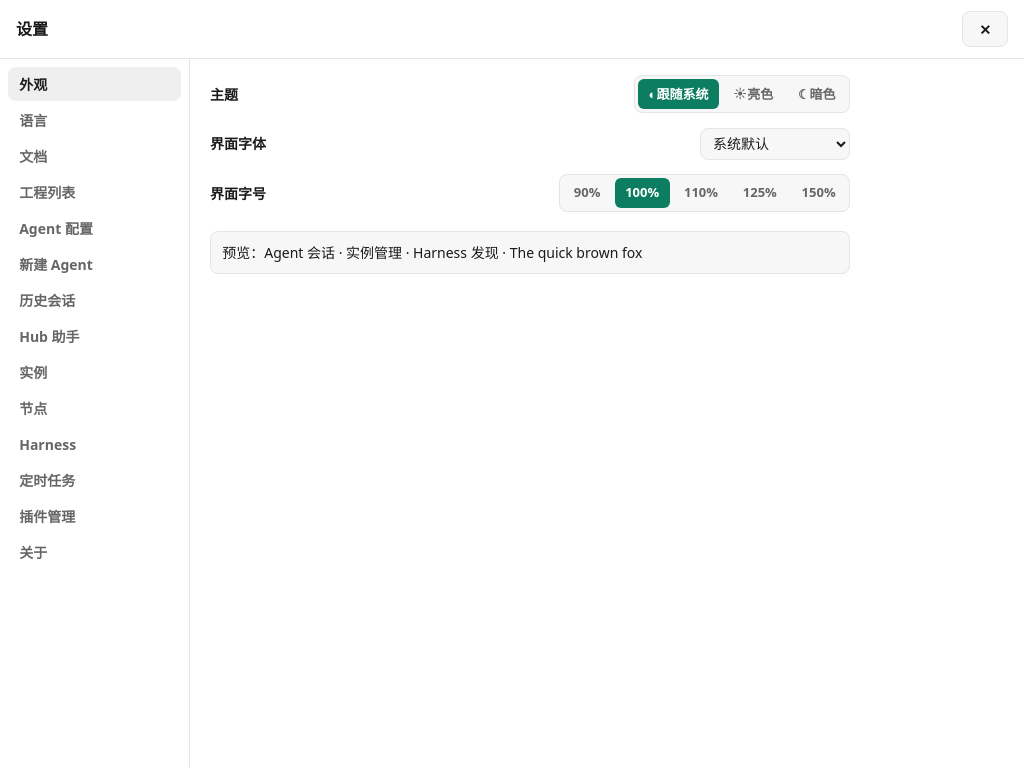
Scenario: SettingsPage 外壳（B1） › 语言切换即时生效并持久化（C1）：切 English 后语言分区文案变英文，localStorage 落盘
What coordinates should you click on to do the following:
click the button "语言"
I would click on:
 (94, 120)
Its box is [8,103,181,137].
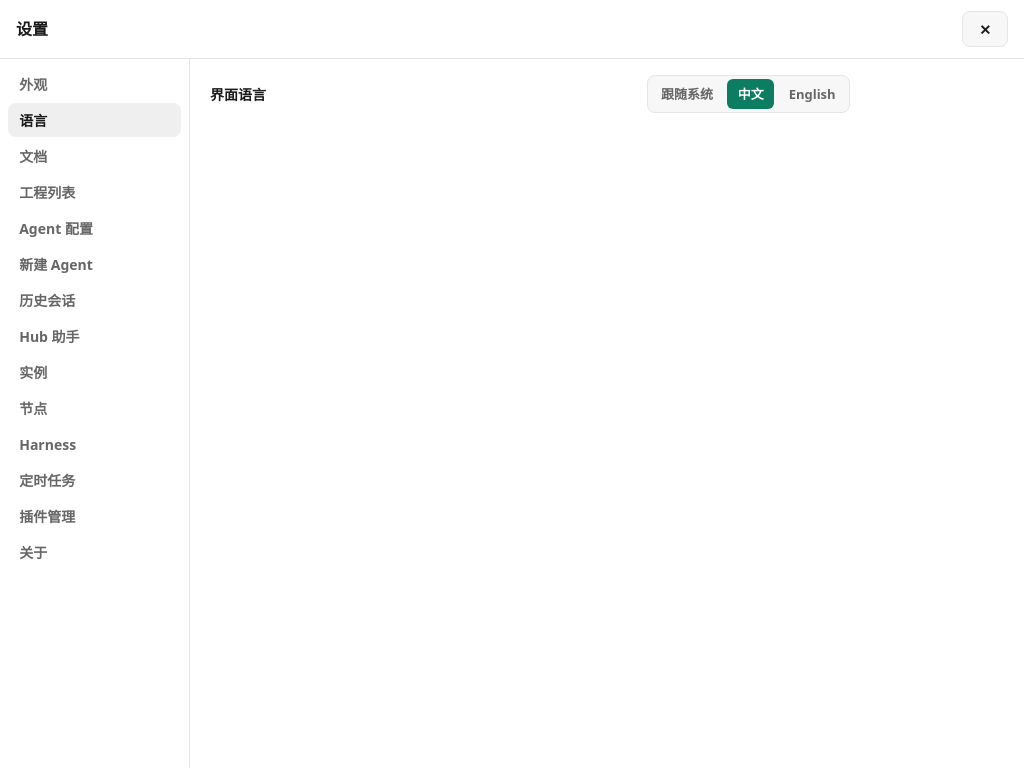
What coordinates should you click on to do the following:
click the button "English"
I would click on:
 (812, 94)
Its box is [778,79,846,109].
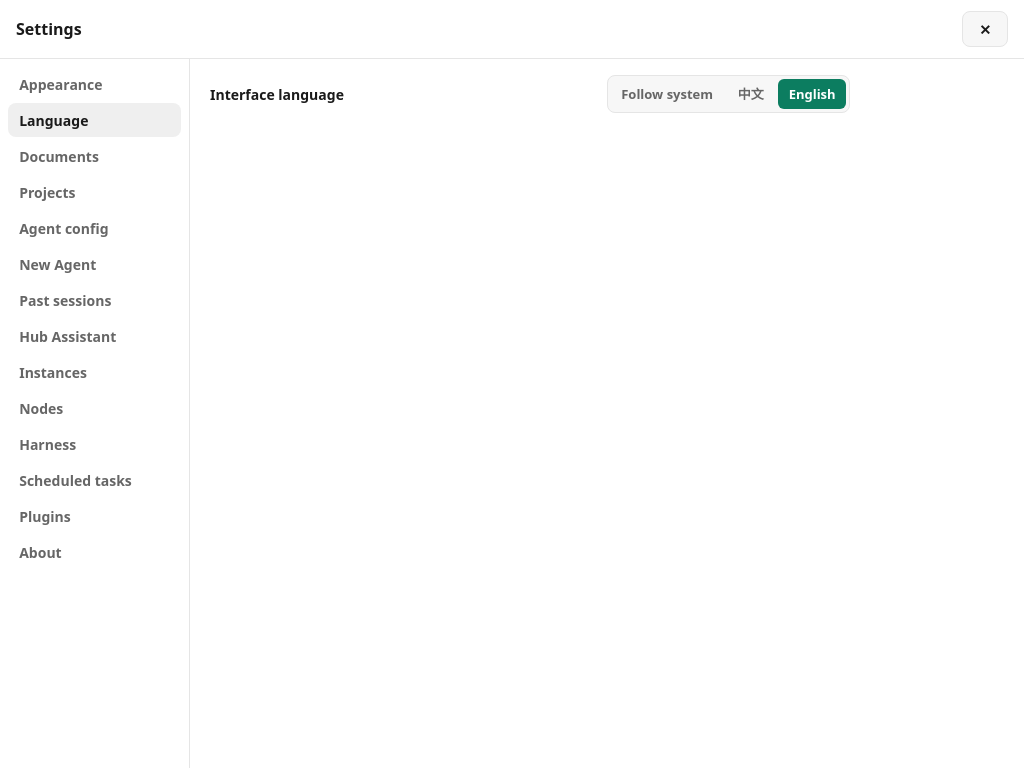
Expected: the element named "Language settings" is shown, [210,75,850,113]
Expected: the button "Follow system" is shown, [611,79,723,109]
What coordinates should you click on to do the following:
click the button "中文"
I would click on:
 (751, 94)
Its box is [727,79,774,109].
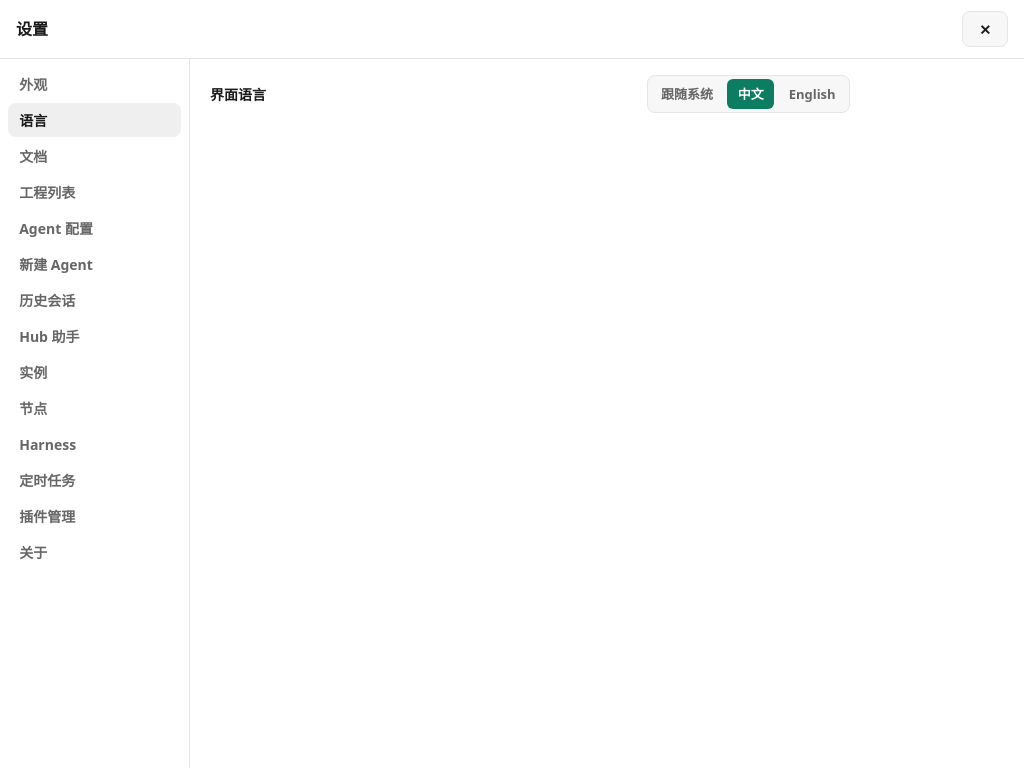
Expected: the button "跟随系统" is shown, [651,79,723,109]
